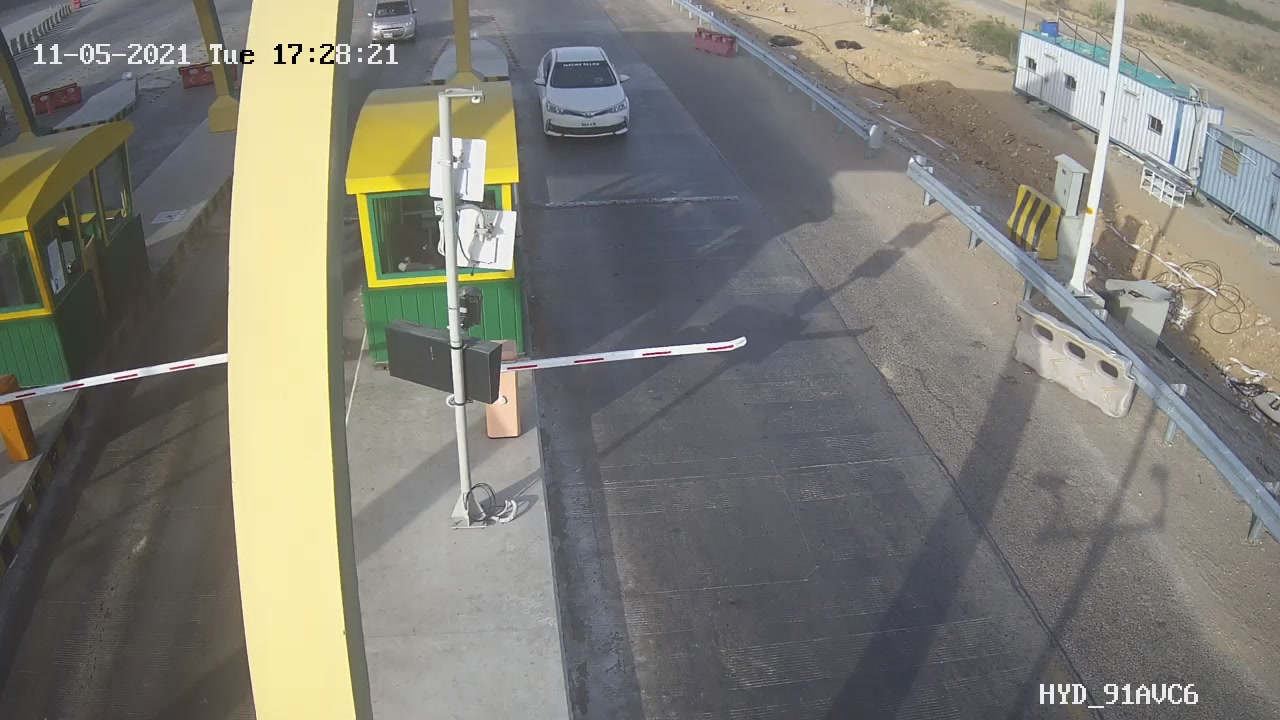F1: (522, 34, 651, 153)
